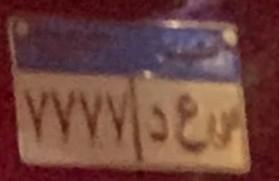7: (45, 85, 80, 141), (102, 85, 129, 140), (82, 82, 107, 141), (20, 86, 44, 146)
د: (143, 104, 176, 145)
س: (209, 105, 244, 157)
ع: (167, 83, 205, 154)
